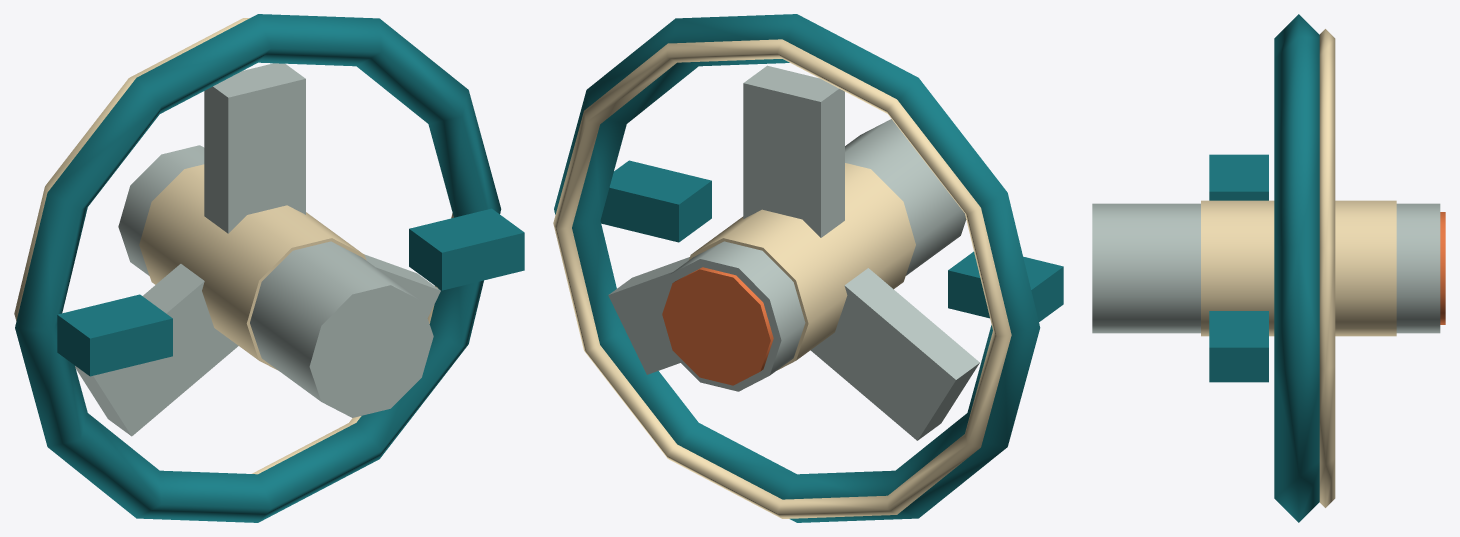
The model's file is propeller-lod-2.glb.
3 renders of one model, left to right at view 1: azimuth 30°, elevation 25°; view 2: azimuth 150°, elevation 25°; view 3: azimuth 270°, elevation 25°, orthographic. The views are drawn at different scales.
Parts seen in each view (by area): view 1: voxys_mechanism_static, voxys_propeller_rotor; view 2: voxys_mechanism_static, voxys_propeller_rotor; view 3: voxys_propeller_rotor, voxys_mechanism_static.
Part boxes in pixels (x1,y1,x2,y2): voxys_mechanism_static: (14,14,524,522); voxys_propeller_rotor: (75,63,440,436); voxys_mechanism_static: (553,14,1063,522); voxys_propeller_rotor: (608,65,979,440); voxys_propeller_rotor: (1092,200,1445,336); voxys_mechanism_static: (1209,14,1335,522).
Size of the model in its own units: 0.94 by 0.94 by 0.65.
